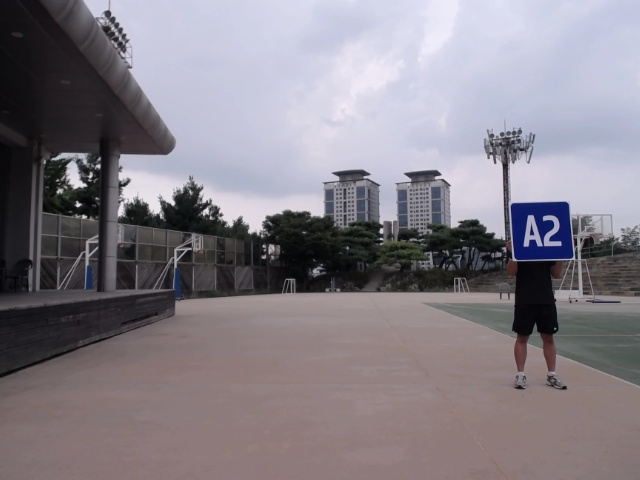delivery_a2: (510, 201, 575, 260)
